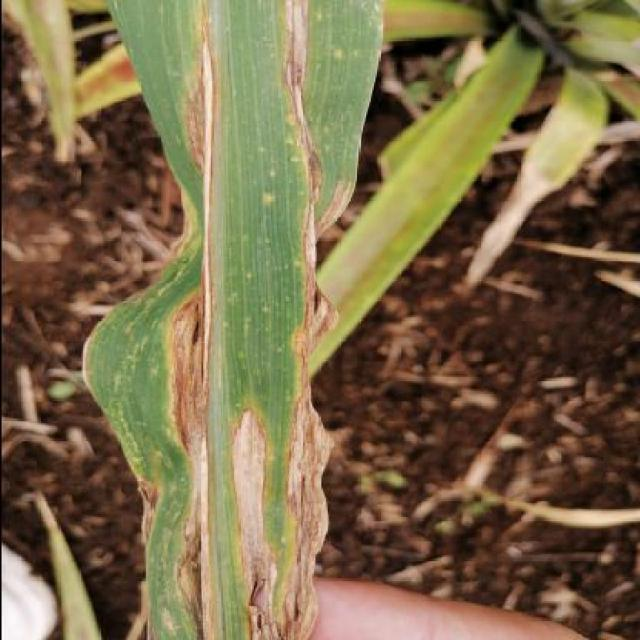Corn_Leaf_Blight: (83, 0, 375, 640)
